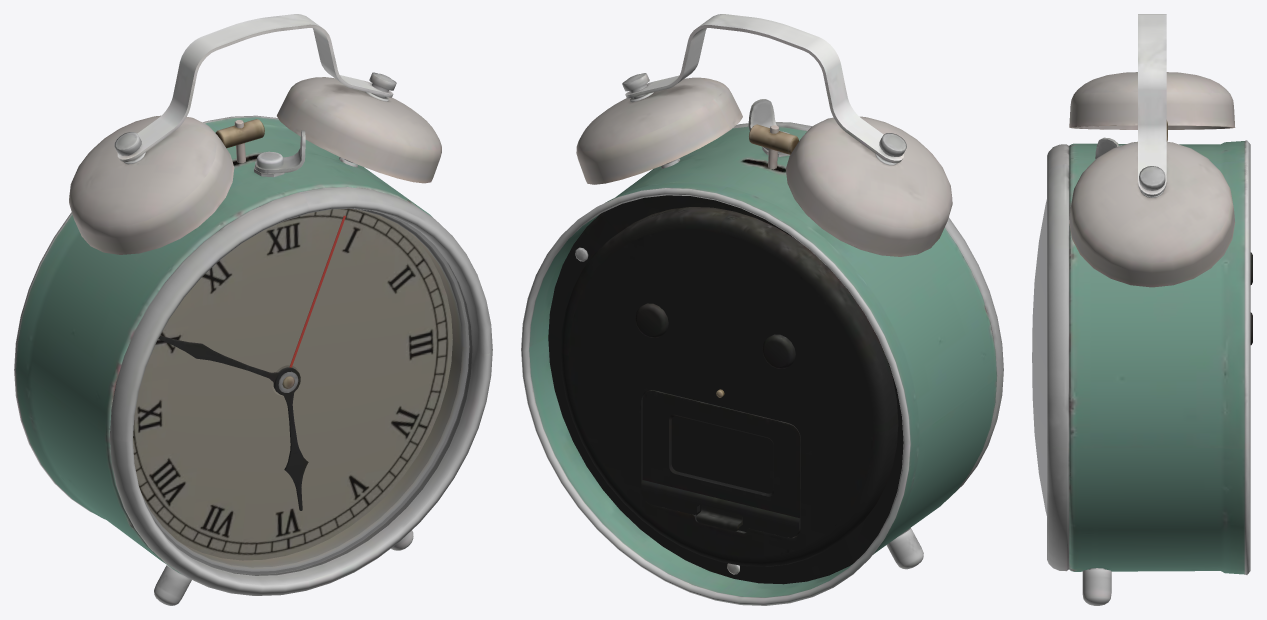
Rendered from alarm-clock.glb.
3 views of the same model, side by side, from view 1: azimuth 30°, elevation 25°; view 2: azimuth 150°, elevation 25°; view 3: azimuth 270°, elevation 25° (orthographic). The views are drawn at different scales.
Visible parts, largest first — view 1: alarm_clock_01_web, alarm_clock_01_glass_web, alarm_clock_01_hour_hand_web, alarm_clock_01_minute_hand_web; view 2: alarm_clock_01_web; view 3: alarm_clock_01_web, alarm_clock_01_glass_web.
Part boxes in pixels (x1=…): alarm_clock_01_web: x1=14, y1=14, x2=492, y2=605; alarm_clock_01_glass_web: x1=133, y1=209, x2=472, y2=575; alarm_clock_01_hour_hand_web: x1=274, y1=368, x2=308, y2=510; alarm_clock_01_minute_hand_web: x1=158, y1=335, x2=293, y2=391; alarm_clock_01_web: x1=521, y1=14, x2=1003, y2=605; alarm_clock_01_web: x1=1047, y1=14, x2=1252, y2=605; alarm_clock_01_glass_web: x1=1032, y1=200, x2=1046, y2=515.
Size of the model in its own units: 0.1317 by 0.1742 by 0.0667.
2 materials, 1 textured.
